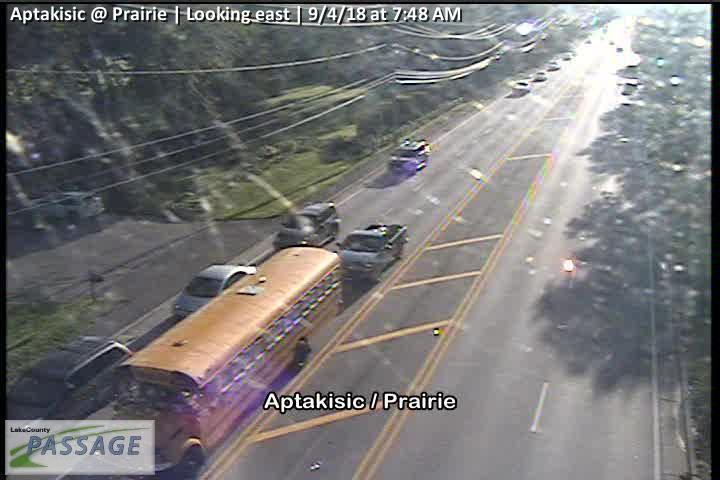SUV: (2, 335, 134, 448), (271, 202, 339, 254)
Sedan: (171, 261, 261, 320)
Truck: (93, 244, 344, 480), (333, 222, 409, 285)
